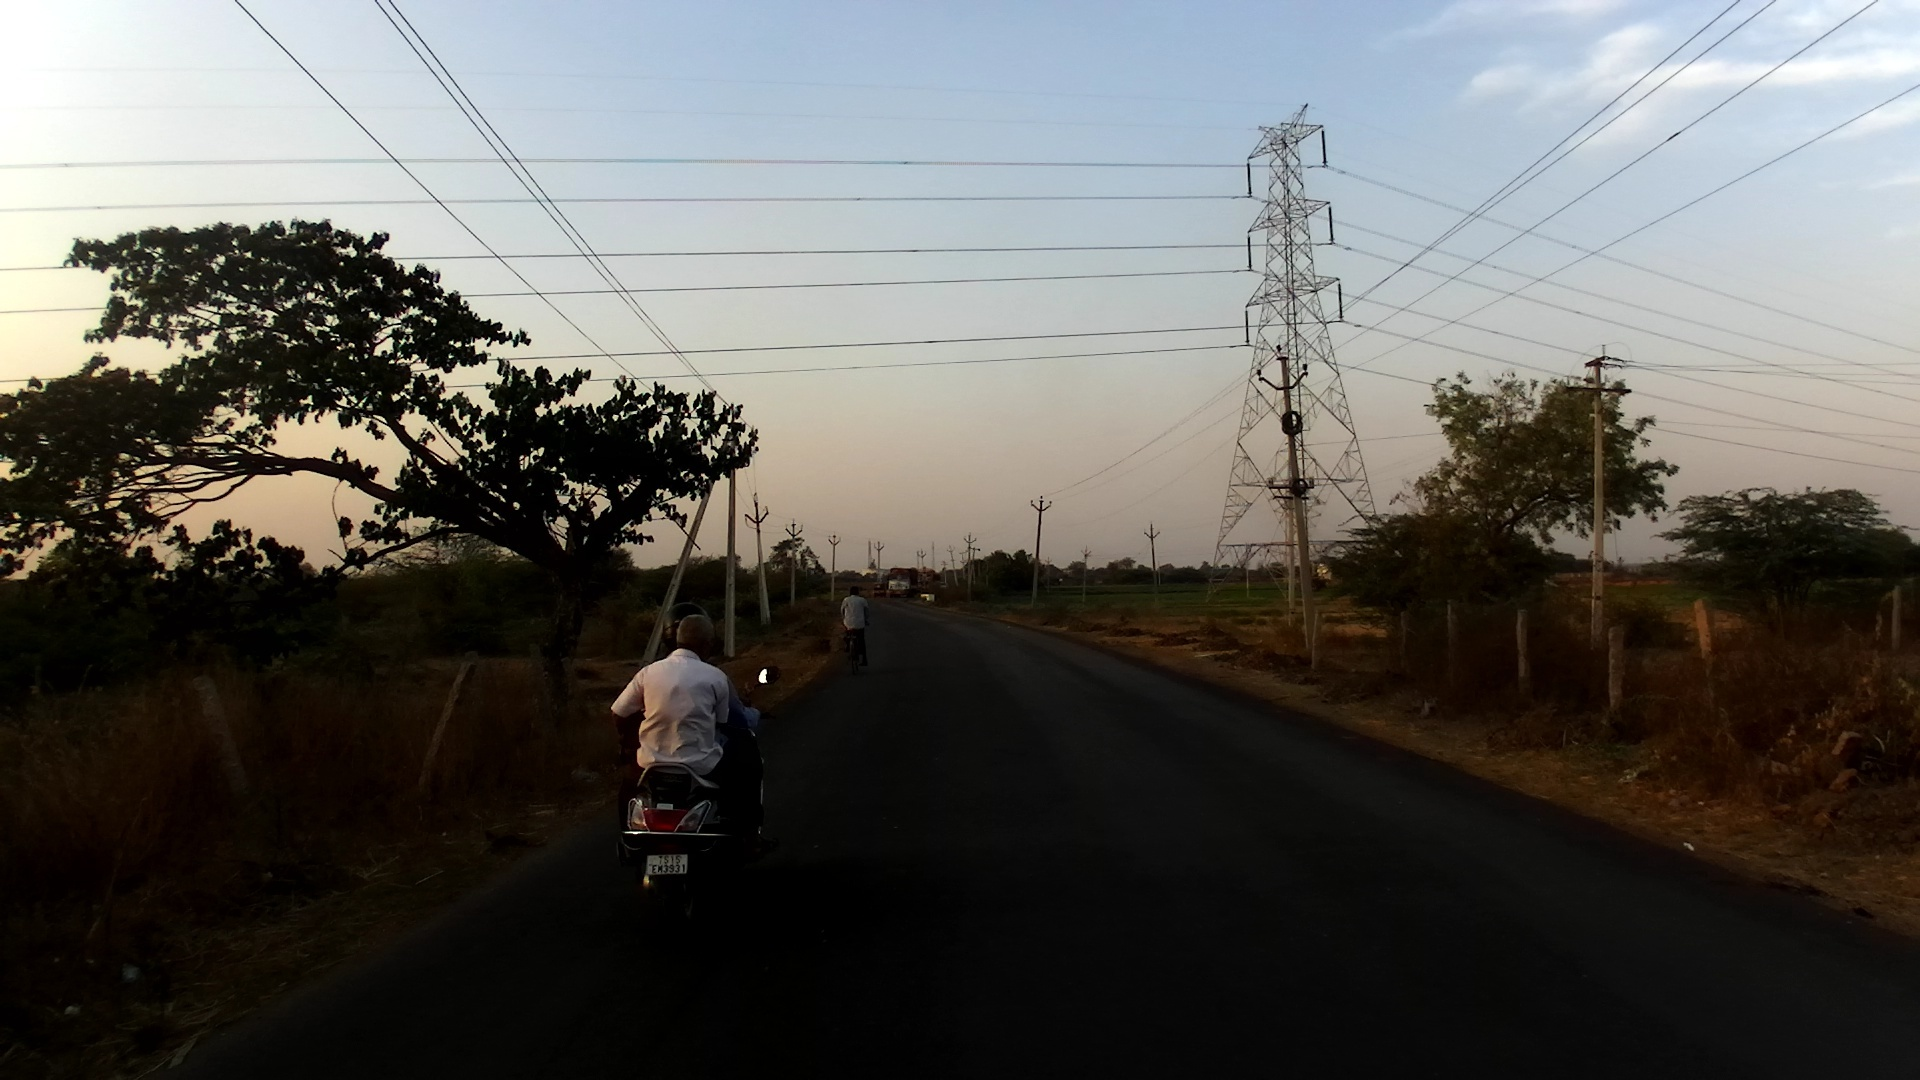autorickshaw: (872, 579, 888, 599)
bicycle: (838, 610, 875, 676)
motorcycle: (613, 660, 786, 951)
rider: (602, 613, 766, 889), (650, 600, 762, 835), (843, 581, 872, 670)
